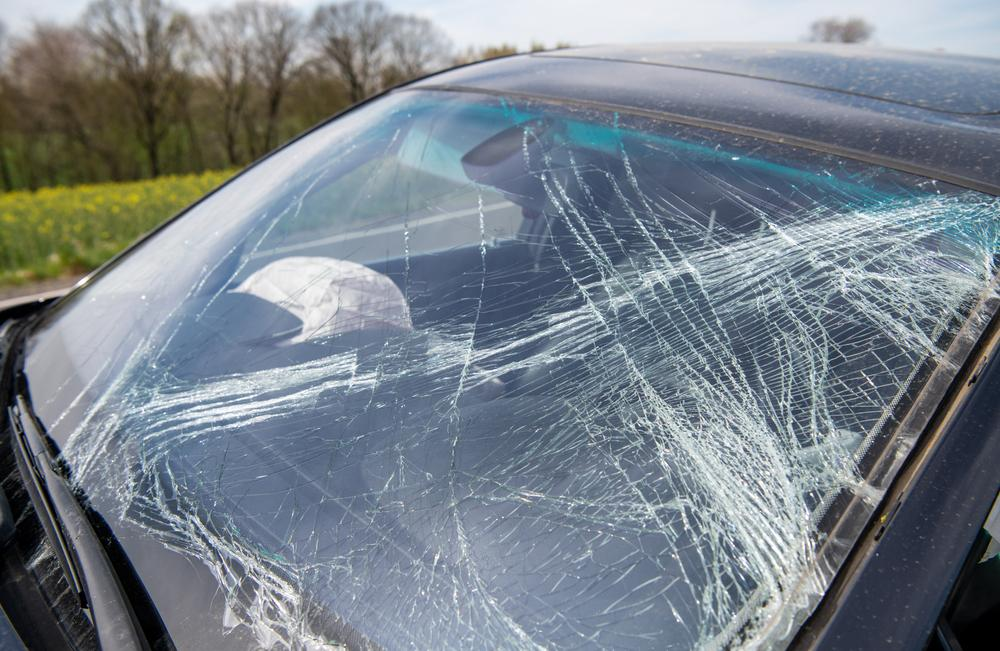glass shatter: (0, 89, 1000, 651)
